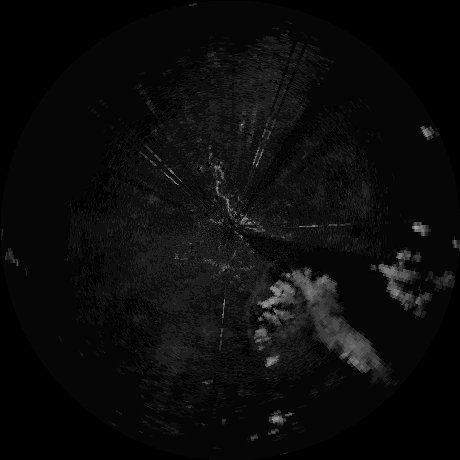frontgust: (245, 263, 273, 334)
